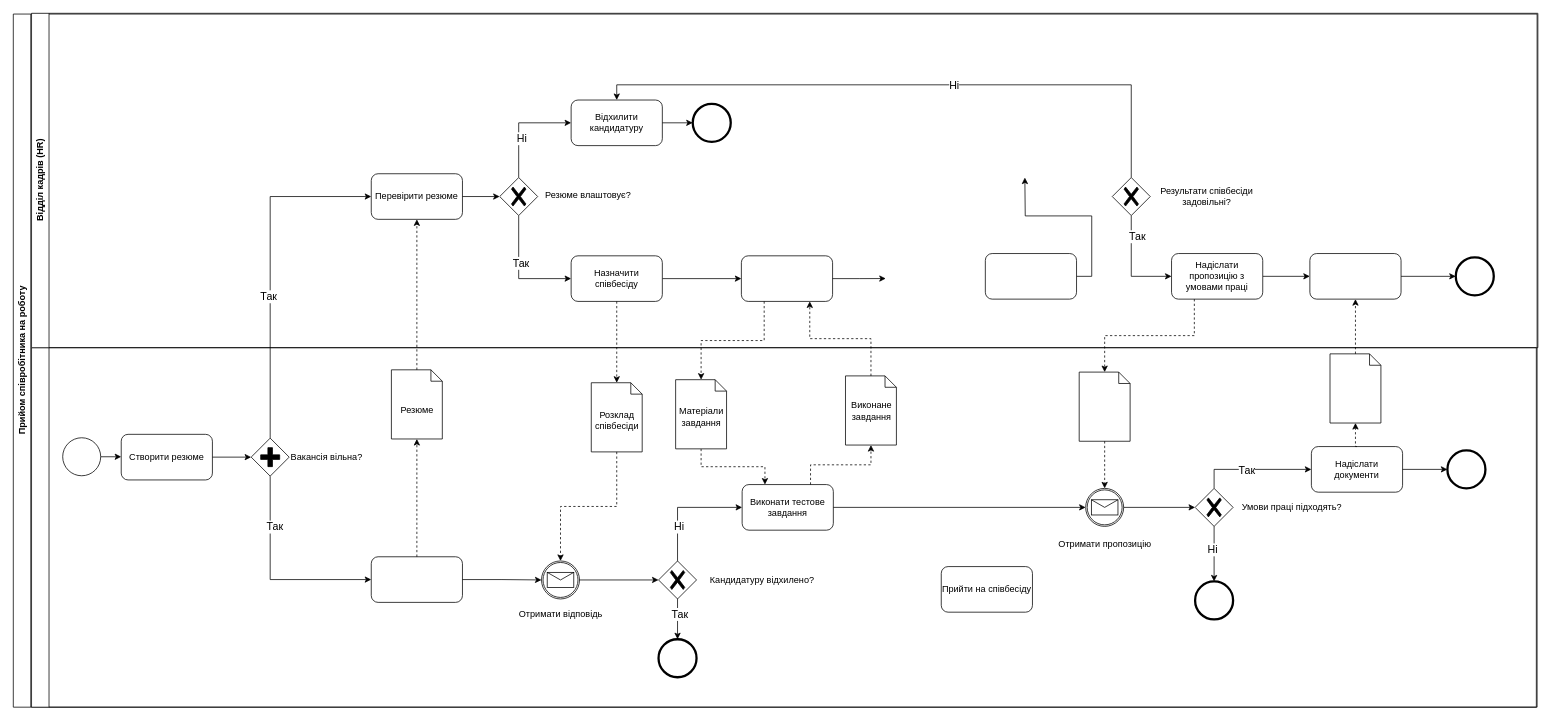
This 1551x720 diagram has some shape labels left out. Here are the shapes that lost their labels. From the top down, the box of each, then its label:
(741, 255, 833, 301): Надіслати тестове завдання
(985, 253, 1077, 299): Провести співбесіду
(1309, 253, 1401, 299): Прийняти кандидата на роботу
(1078, 371, 1130, 441): Умови праці
(1329, 353, 1381, 423): Документи
(31, 347, 1536, 707): Кандидат на посаду
(370, 556, 462, 602): Надіслати резюме
